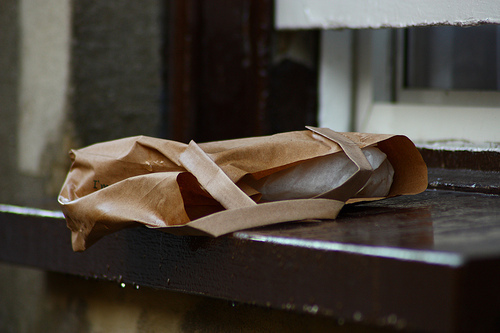litter: (61, 126, 430, 253)
